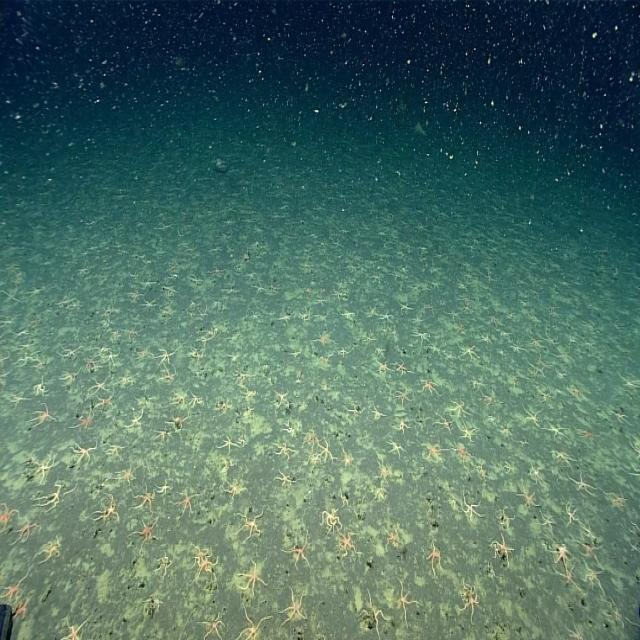brittle-stars: (236, 607, 268, 640), (394, 580, 418, 623), (366, 590, 387, 637), (238, 560, 266, 595), (281, 588, 306, 622), (237, 508, 262, 540), (459, 580, 478, 621), (94, 497, 120, 526), (132, 518, 158, 545), (570, 470, 595, 498), (42, 482, 64, 513), (493, 532, 513, 566), (71, 438, 98, 463), (461, 492, 484, 521), (62, 614, 87, 640), (288, 538, 309, 568), (196, 554, 220, 580), (2, 575, 25, 602), (427, 540, 444, 576), (203, 612, 224, 640), (14, 518, 37, 543), (338, 529, 357, 559), (550, 541, 570, 569), (41, 534, 61, 561), (322, 506, 342, 533), (0, 499, 17, 530), (519, 485, 540, 510), (384, 522, 402, 551), (33, 454, 53, 480), (13, 594, 32, 621), (583, 562, 602, 589), (224, 479, 244, 503), (135, 487, 155, 511), (177, 488, 195, 514), (32, 405, 53, 427), (522, 406, 542, 428), (76, 405, 93, 430), (546, 420, 567, 440), (452, 442, 471, 464), (458, 343, 478, 363), (562, 568, 578, 592), (497, 506, 513, 530), (157, 346, 176, 366), (607, 489, 626, 509), (426, 438, 444, 459), (156, 551, 172, 574), (220, 435, 239, 454), (118, 464, 136, 484), (9, 390, 27, 410), (274, 440, 292, 460), (375, 460, 390, 484), (578, 425, 595, 446), (32, 374, 48, 396), (96, 391, 115, 409), (450, 397, 468, 416), (59, 343, 80, 359), (420, 378, 438, 396), (320, 438, 334, 461), (92, 375, 108, 395), (395, 386, 411, 406), (458, 421, 474, 441), (341, 444, 354, 468), (566, 502, 579, 526), (540, 508, 554, 530), (314, 328, 331, 346), (156, 476, 172, 495), (127, 409, 143, 428), (102, 348, 121, 364), (274, 468, 290, 487), (273, 389, 289, 407), (529, 463, 543, 483), (118, 369, 134, 386), (412, 330, 429, 346), (305, 426, 320, 444), (173, 389, 186, 409), (162, 366, 177, 383), (190, 389, 202, 410), (395, 416, 409, 434), (126, 323, 139, 342), (154, 427, 170, 442), (398, 298, 413, 314), (107, 442, 124, 456), (391, 441, 405, 458), (61, 370, 77, 384), (340, 306, 354, 322), (528, 336, 542, 352), (502, 460, 515, 477), (428, 340, 441, 357), (371, 404, 383, 422), (394, 360, 407, 376), (278, 311, 292, 325), (142, 275, 155, 290), (189, 274, 204, 287), (363, 329, 376, 344), (210, 262, 222, 278), (378, 310, 394, 322), (142, 296, 156, 309), (444, 308, 459, 320), (221, 456, 232, 472), (456, 277, 467, 293), (332, 288, 345, 301), (376, 360, 390, 372), (162, 285, 177, 296), (84, 354, 93, 370), (314, 294, 325, 306), (413, 312, 423, 325), (339, 346, 348, 359), (257, 279, 265, 293), (422, 282, 431, 294)
